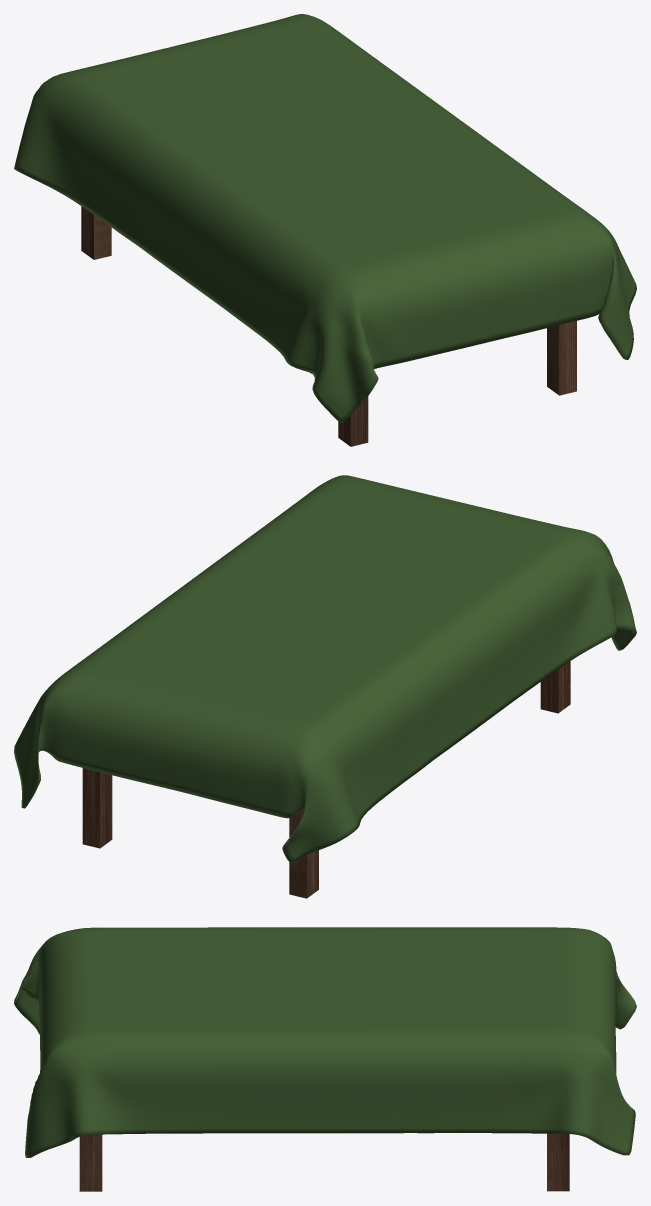
File: wood-bed.fbx
3 renders of one model, top to bottom at view 1: azimuth 30°, elevation 25°; view 2: azimuth 150°, elevation 25°; view 3: azimuth 270°, elevation 25°, orthographic. The views are drawn at different scales.
Visible parts, largest first — view 1: blacket.001, blacket.004; view 2: blacket.001, blacket.004; view 3: blacket.001, blacket.004.
Boxes of the visible parts, <box> form: blacket.001: <box>14,14,636,422</box>; blacket.004: <box>81,206,576,446</box>; blacket.001: <box>14,475,636,863</box>; blacket.004: <box>82,661,570,898</box>; blacket.001: <box>14,927,636,1157</box>; blacket.004: <box>79,1133,569,1191</box>.
Size of the model in its own units: 132 by 64.18 by 226.
Materials: 2 (1 with a texture image).
